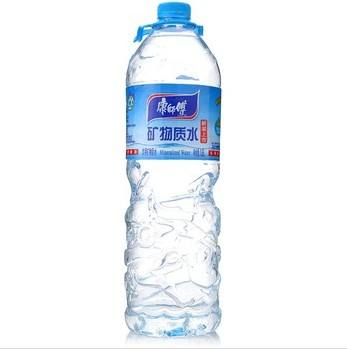amwater: (116, 1, 236, 341)
